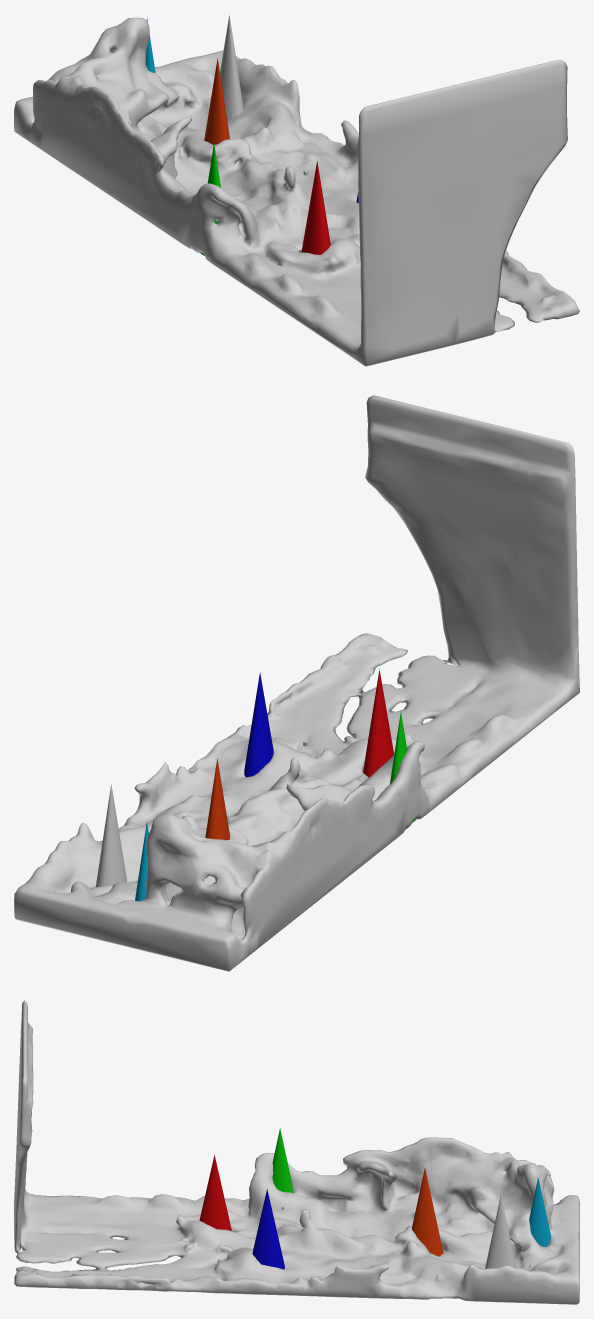
The picture shows the model from 3 angles, top to bottom: view 1: azimuth 30°, elevation 25°; view 2: azimuth 150°, elevation 25°; view 3: azimuth 270°, elevation 25°; orthographic projection. The views are drawn at different scales.
Parts seen in each view (by area): view 1: Liquid_Domain, 円錐.001, 円錐, 円錐.004; view 2: Liquid_Domain, 円錐.001, 円錐, 円錐.002, 円錐.004; view 3: Liquid_Domain, 円錐.004, 円錐.002, 円錐.001, 円錐, 円錐.005, 円錐.003.
Boxes of the visible parts, bbox=[...] form: Liquid_Domain: bbox=[14, 17, 579, 366]; 円錐.001: bbox=[301, 161, 330, 254]; 円錐: bbox=[220, 14, 243, 121]; 円錐.004: bbox=[204, 58, 229, 144]; Liquid_Domain: bbox=[14, 395, 579, 971]; 円錐.001: bbox=[363, 669, 393, 777]; 円錐: bbox=[95, 784, 126, 887]; 円錐.002: bbox=[244, 672, 273, 777]; 円錐.004: bbox=[205, 758, 229, 840]; Liquid_Domain: bbox=[14, 1000, 579, 1304]; 円錐.004: bbox=[412, 1168, 443, 1256]; 円錐.002: bbox=[252, 1189, 284, 1269]; 円錐.001: bbox=[199, 1155, 231, 1230]; 円錐: bbox=[485, 1195, 516, 1268]; 円錐.005: bbox=[529, 1177, 550, 1246]; 円錐.003: bbox=[272, 1128, 292, 1192].
Bounding box in the file's own units: 129 × 158 × 361.
